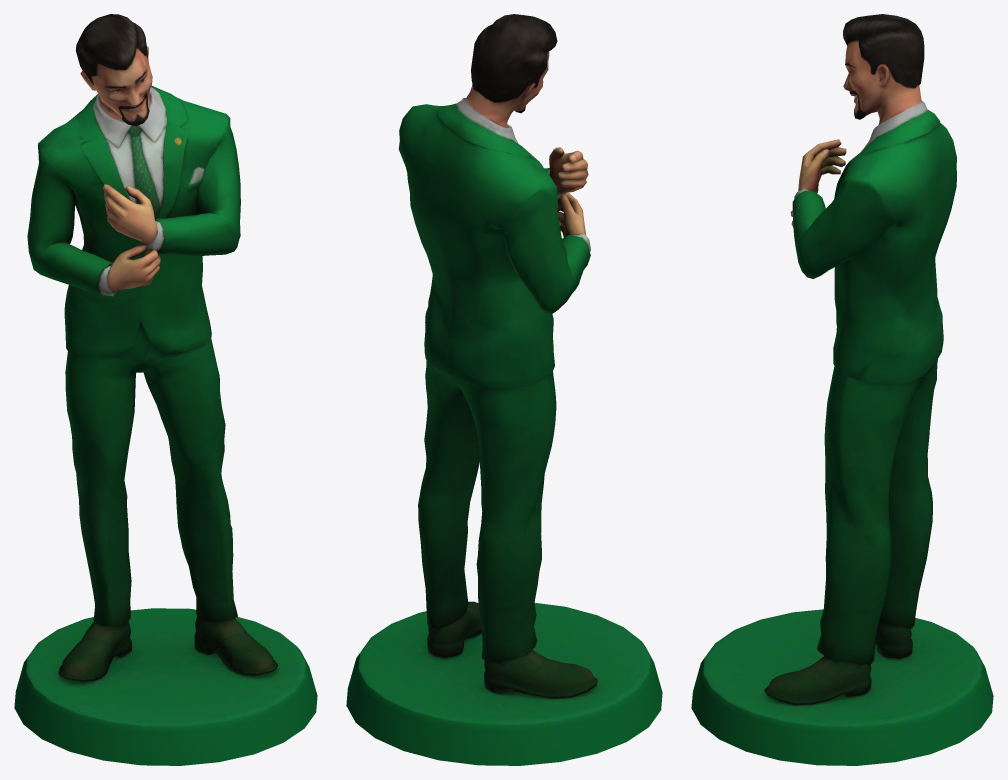
Rendered from emerald_alt.obj.
3 views of the same model, side by side, from view 1: azimuth 30°, elevation 25°; view 2: azimuth 150°, elevation 25°; view 3: azimuth 270°, elevation 25° (orthographic). The views are drawn at different scales.
Visible parts, largest first — view 1: greenAlt_0; view 2: greenAlt_0; view 3: greenAlt_0.
Boxes of the visible parts, x1,y1,x2,y2 form: greenAlt_0: (14, 14, 317, 765); greenAlt_0: (346, 14, 662, 765); greenAlt_0: (691, 14, 993, 765).
Size of the model in its own units: 0.794 by 1.95 by 0.794.
